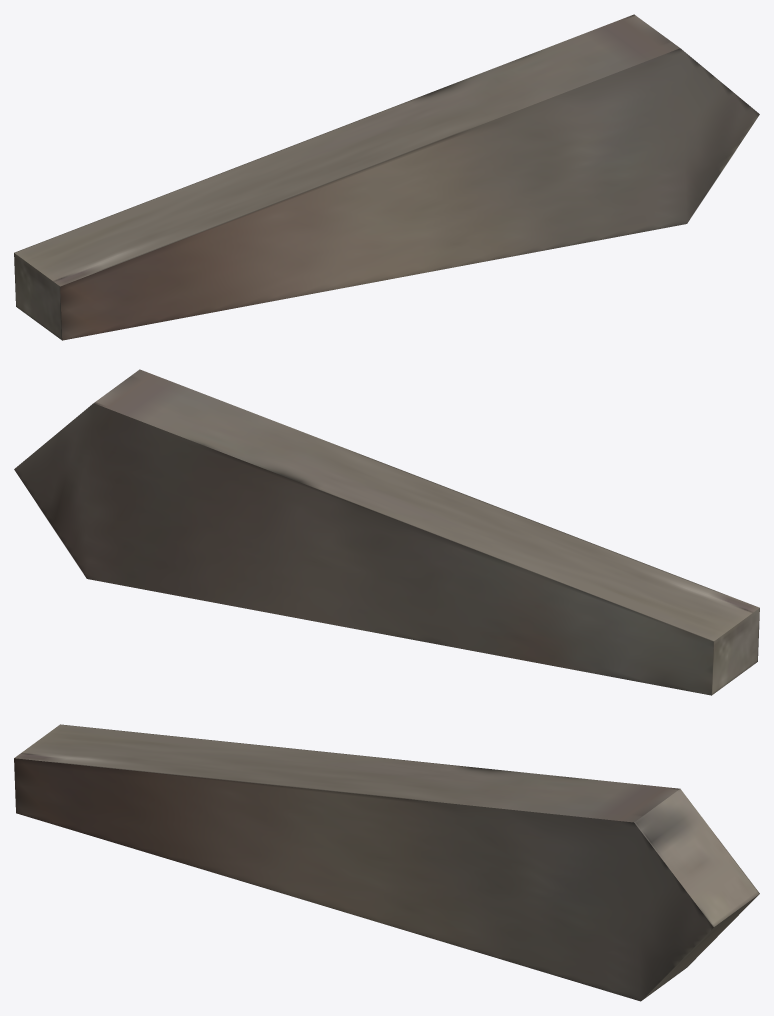
File: NailClock.fbx
The picture shows the model from 3 angles, top to bottom: view 1: azimuth 30°, elevation 25°; view 2: azimuth 150°, elevation 25°; view 3: azimuth 330°, elevation 25°; orthographic projection.
Visible parts, largest first — view 1: Cube.003; view 2: Cube.003; view 3: Cube.003.
Boxes of the visible parts, x1,y1,x2,y2 form: Cube.003: (14, 14, 759, 340); Cube.003: (14, 369, 759, 695); Cube.003: (14, 724, 759, 1001).
Bounding box in the file's own units: 7.44 × 1.8 × 0.8514.
1 material, 1 textured.
